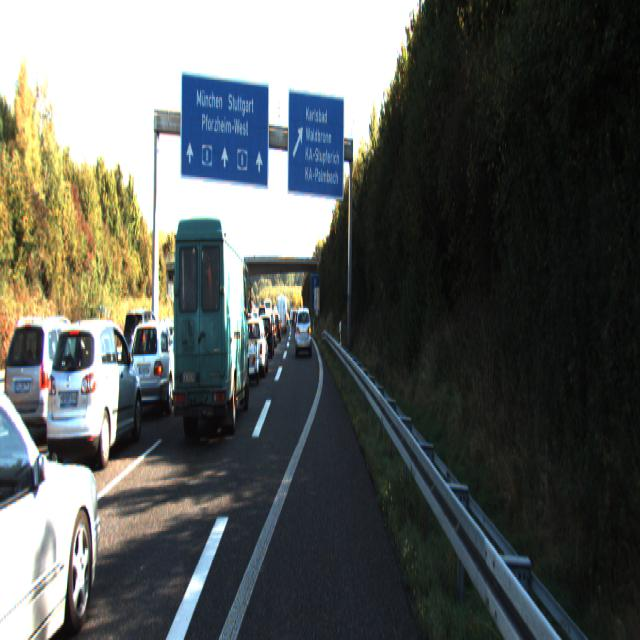Car: (0, 357, 110, 639), (171, 212, 250, 447), (44, 318, 146, 478), (0, 314, 99, 450), (127, 316, 190, 420), (242, 314, 268, 379), (256, 313, 274, 359), (295, 305, 311, 354)
